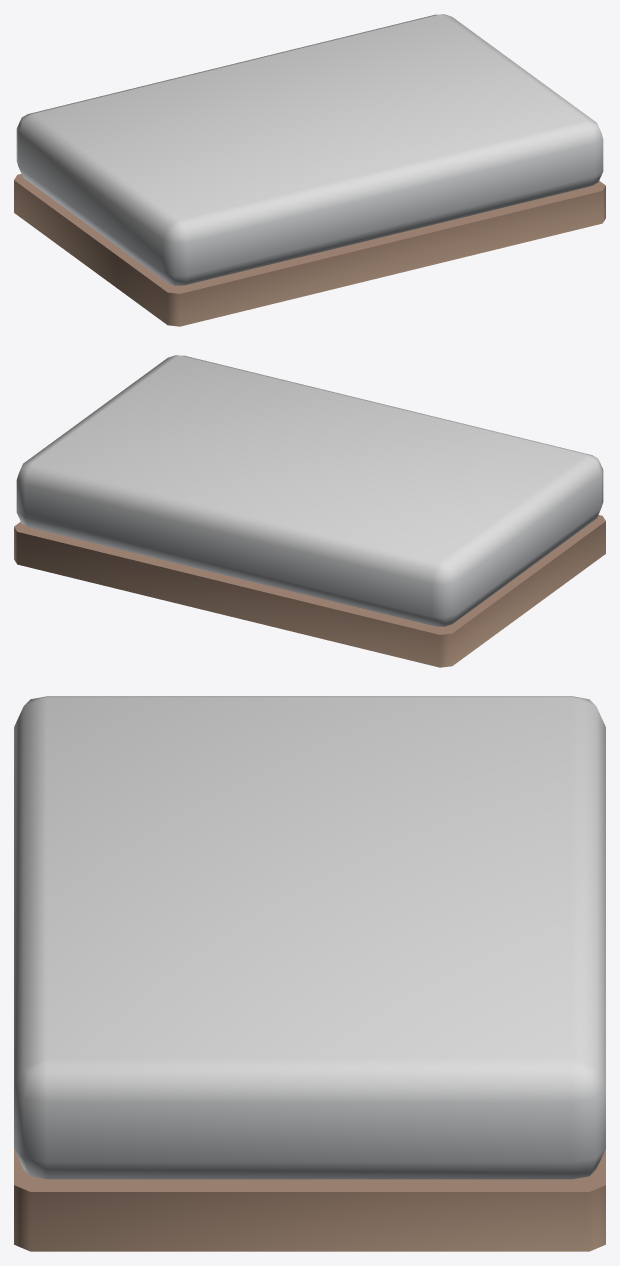
Rendered from bed-matress-single-floor.glb.
3 views of the same model, one above another, from view 1: azimuth 30°, elevation 25°; view 2: azimuth 150°, elevation 25°; view 3: azimuth 270°, elevation 25° (orthographic). The views are drawn at different scales.
Visible parts, largest first — view 1: bed-matress-single-floor; view 2: bed-matress-single-floor; view 3: bed-matress-single-floor.
Part boxes in pixels (<box>): bed-matress-single-floor: <box>14,14,605,326</box>; bed-matress-single-floor: <box>14,355,605,667</box>; bed-matress-single-floor: <box>14,696,605,1251</box>.
Bounding box in the file's own units: 1.4 × 0.3 × 0.9.
